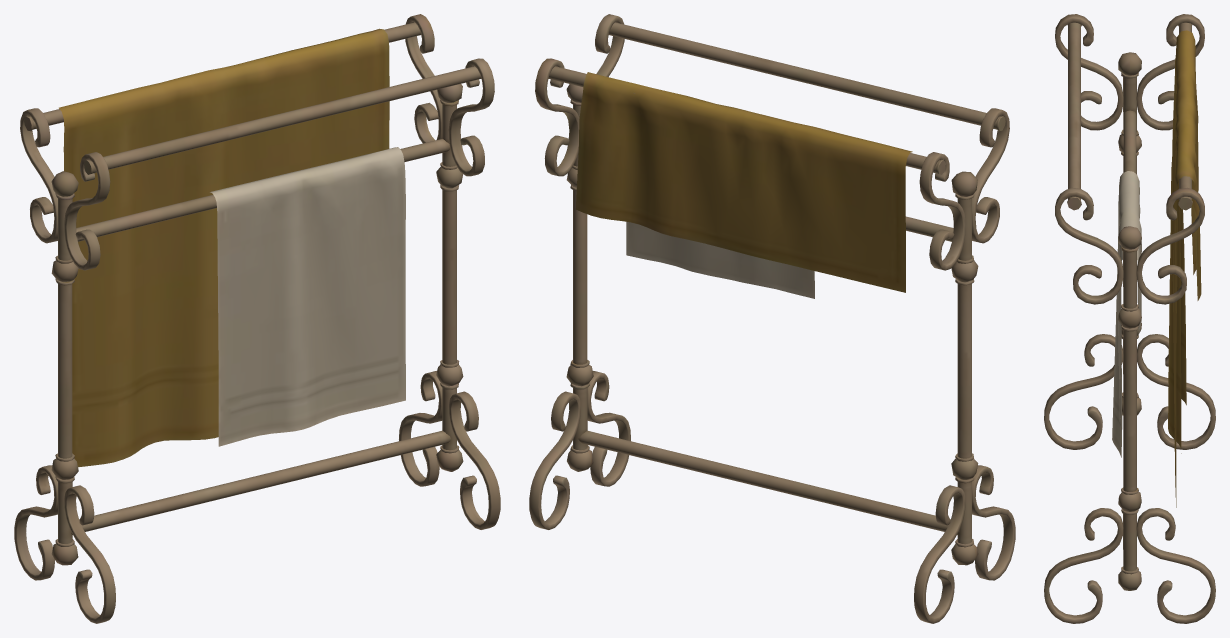
File: SM_towel_rack_big_01_dee3ec.glb
The picture shows the model from 3 angles, left to right: view 1: azimuth 30°, elevation 25°; view 2: azimuth 150°, elevation 25°; view 3: azimuth 270°, elevation 25°; orthographic projection. The views are drawn at different scales.
Bounding box in the file's own units: 1.24 × 1.36 × 0.4889.
Materials: 1 (1 with a texture image).
